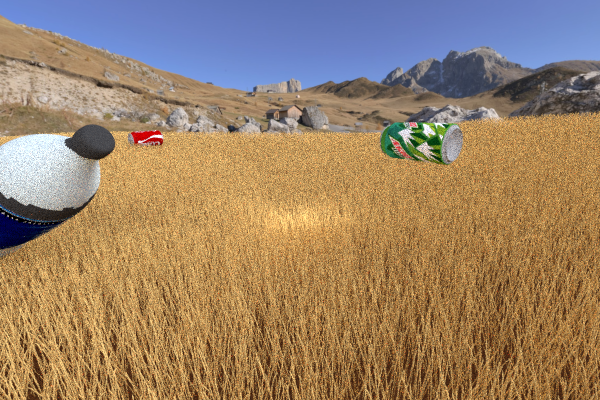bottle: (0, 124, 115, 267)
can: (379, 122, 462, 165), (127, 130, 163, 147)
